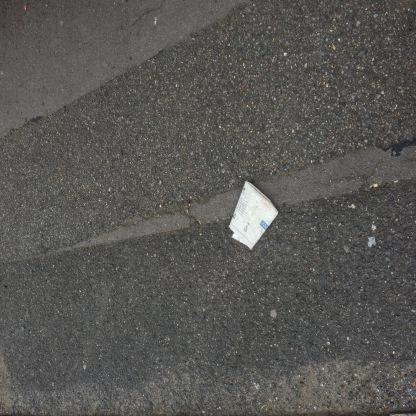Cup: (229, 181, 279, 250)
